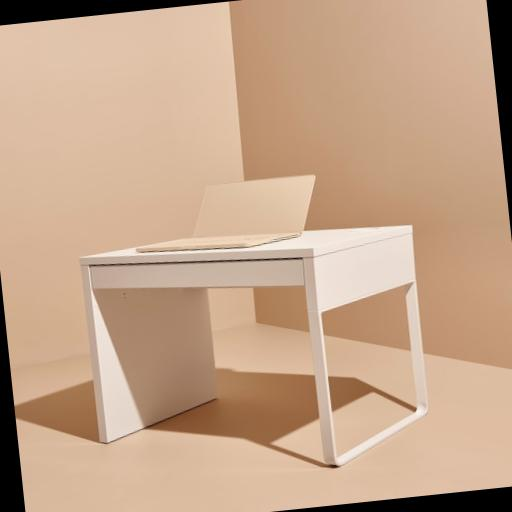desk: (78, 217, 437, 492)
wall: (223, 0, 512, 404), (0, 1, 265, 370)
